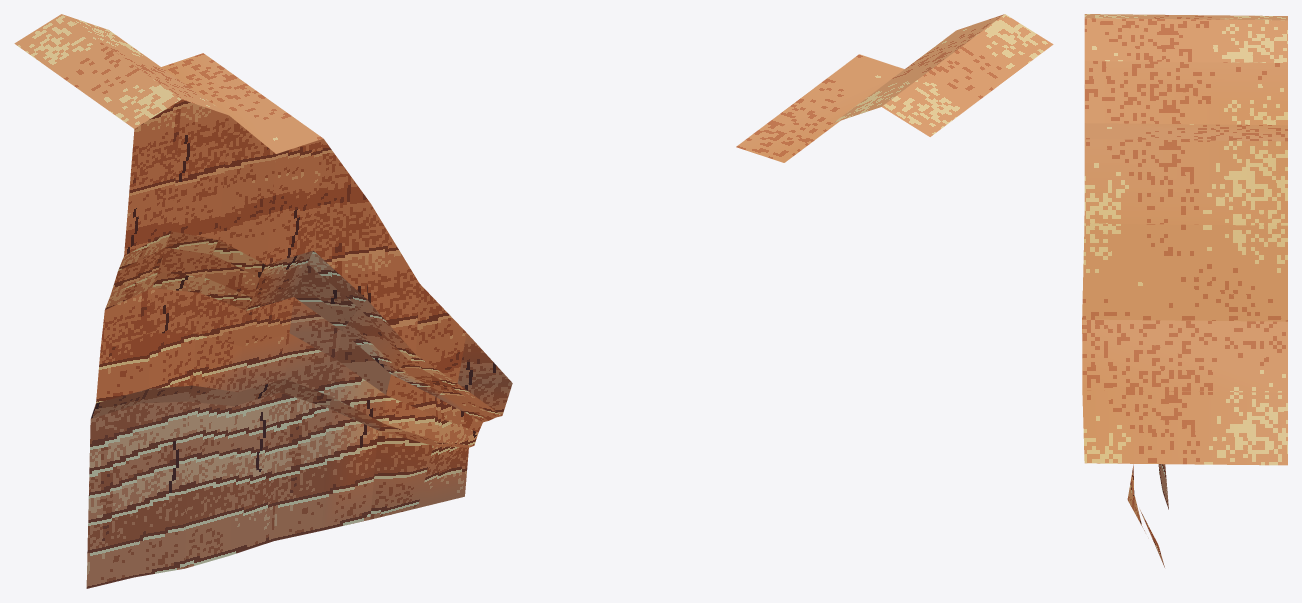
Rendered from wland.canyon_wall__end.glb.
The picture shows the model from 3 angles, left to right: view 1: azimuth 30°, elevation 25°; view 2: azimuth 150°, elevation 25°; view 3: azimuth 270°, elevation 25°; orthographic projection. The views are drawn at different scales.
Parts seen in each view (by area): view 1: kit_shell_face, kit_shell_cap; view 2: kit_shell_cap; view 3: kit_shell_cap, kit_shell_face.
Part boxes in pixels (x1=…): kit_shell_face: x1=86, y1=99, x2=512, y2=588; kit_shell_cap: x1=14, y1=14, x2=323, y2=153; kit_shell_cap: x1=736, y1=14, x2=1053, y2=162; kit_shell_cap: x1=1082, y1=14, x2=1287, y2=465; kit_shell_face: x1=1127, y1=464, x2=1168, y2=567.
Size of the model in its own units: 8 by 10.36 by 4.45.
Materials: 3 (3 with a texture image).
